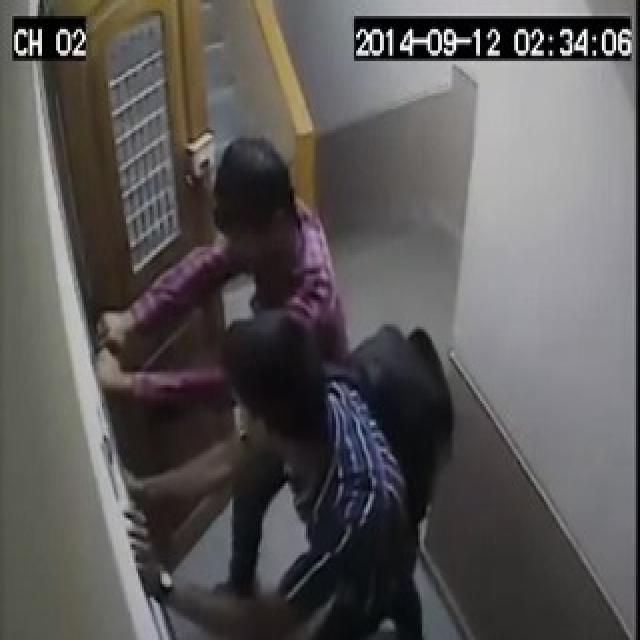thief: (76, 133, 455, 640)
